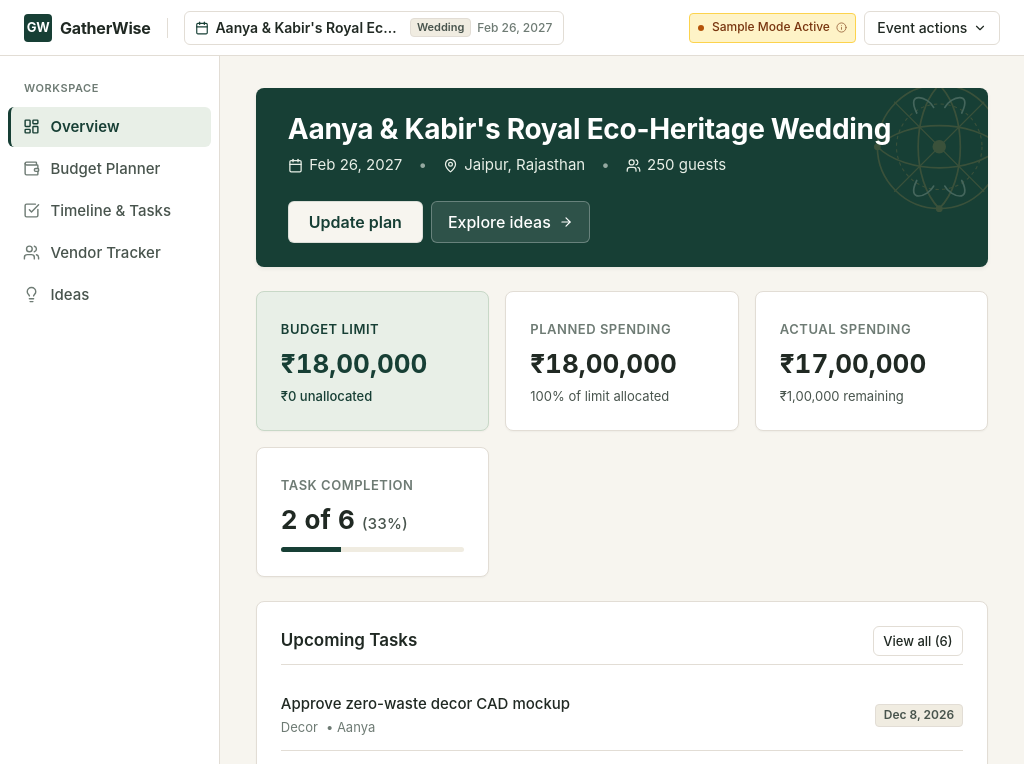
GatherWise Integration & Component Workflows › completing a task updates task completion count in overview
# Switch to Timeline
Click the button "Timeline & Tasks".
click(110, 210)  # box x1=8 y1=190 x2=211 y2=230
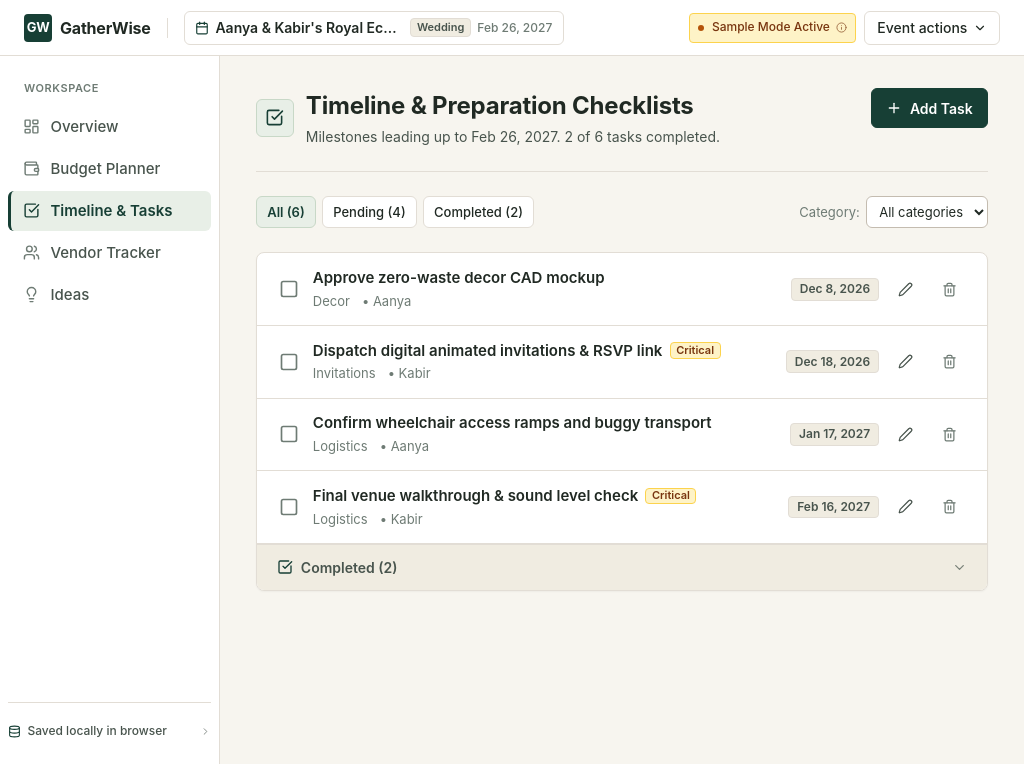
Now the button named "Mark task" is shown, box x1=277 y1=277 x2=301 y2=301
Click the button named "Mark task".
click(289, 434)  # box x1=277 y1=422 x2=301 y2=446
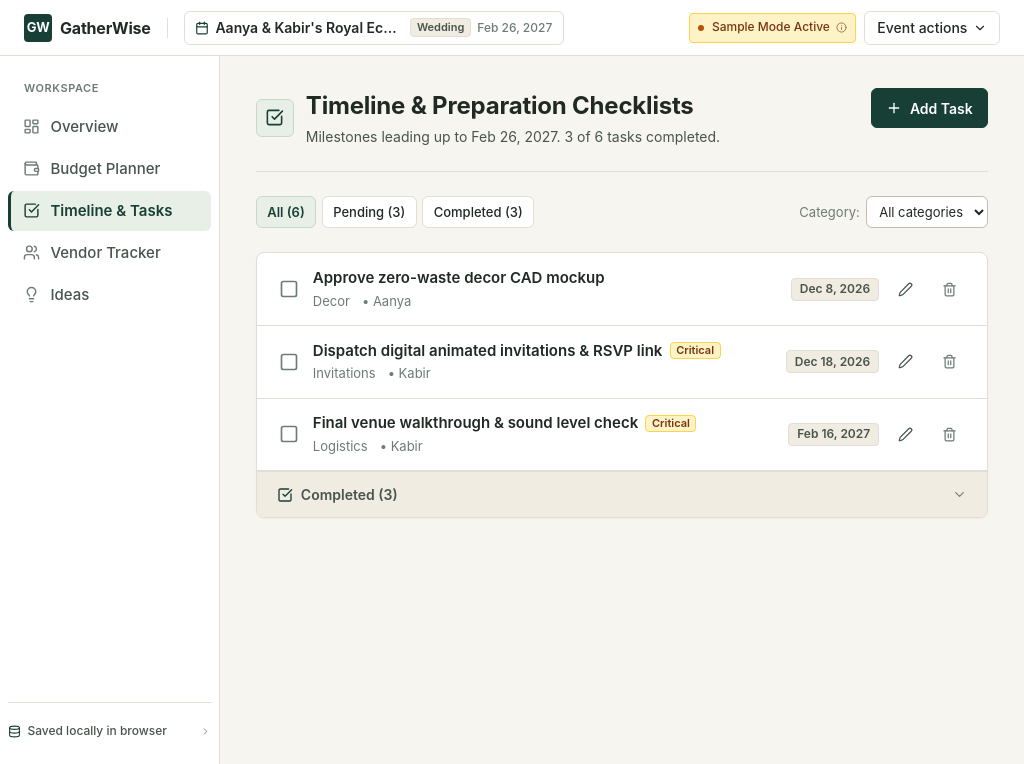
# Switch back to Overview
Click the button "Overview".
click(110, 126)  # box x1=8 y1=106 x2=211 y2=146
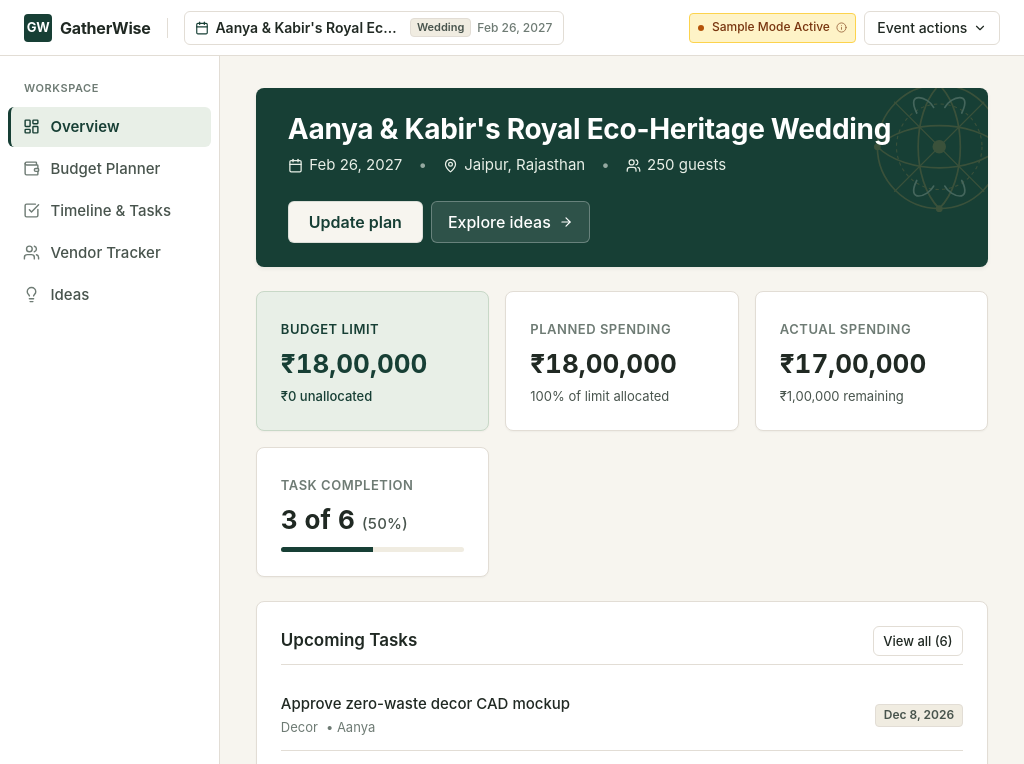
Now the text "Task Completion" is shown, box x1=281 y1=477 x2=414 y2=493
